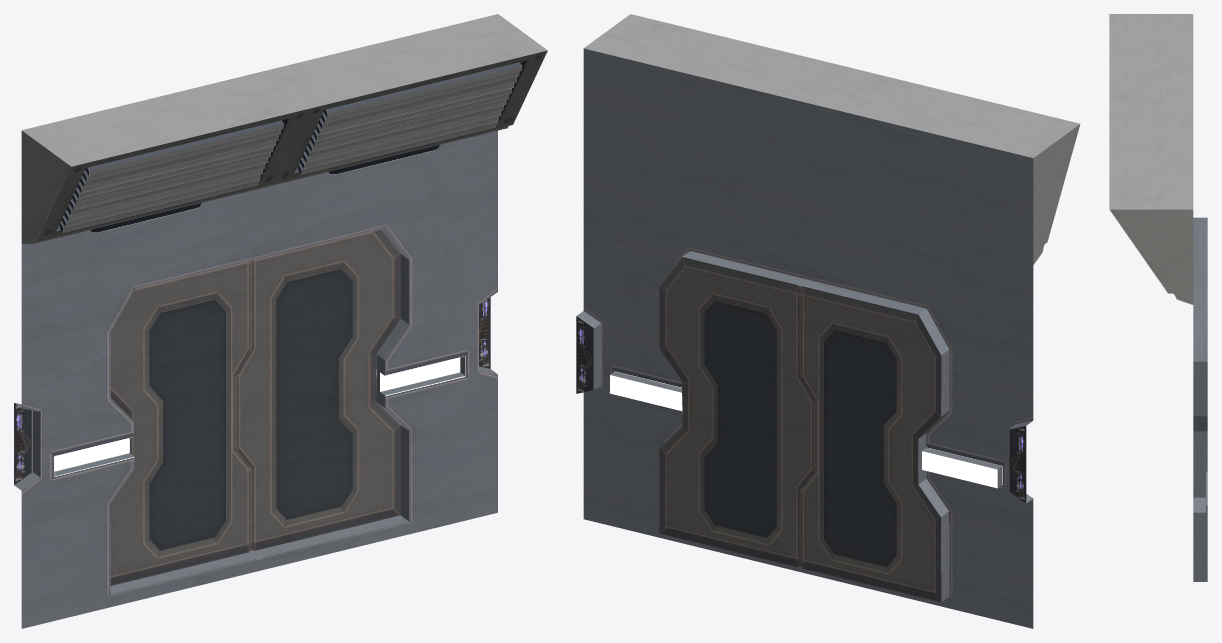
Rendered from DS_SM018_Scifi_Room_Wall4M_02_LP.fbx.
3 renders of one model, left to right at view 1: azimuth 30°, elevation 25°; view 2: azimuth 150°, elevation 25°; view 3: azimuth 270°, elevation 25°, orthographic. The views are drawn at different scales.
Visible parts, largest first — view 1: DS_SM018_Scifi_Room_Wall4M_02_LP.001; view 2: DS_SM018_Scifi_Room_Wall4M_02_LP.001; view 3: DS_SM018_Scifi_Room_Wall4M_02_LP.001.
Boxes of the visible parts, x1,y1,x2,y2 form: DS_SM018_Scifi_Room_Wall4M_02_LP.001: (14, 14, 547, 628); DS_SM018_Scifi_Room_Wall4M_02_LP.001: (576, 14, 1080, 628); DS_SM018_Scifi_Room_Wall4M_02_LP.001: (1109, 14, 1207, 581).
Bounding box in the file's own units: 800 × 800 × 170.
